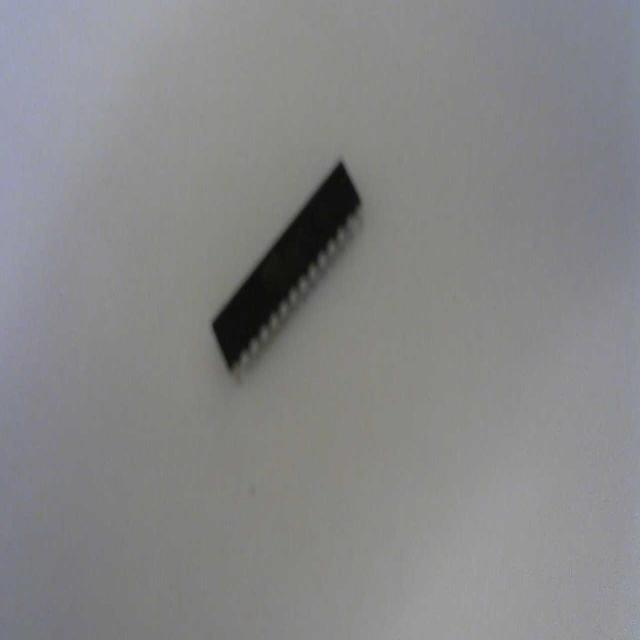atmega: (209, 154, 365, 378)
